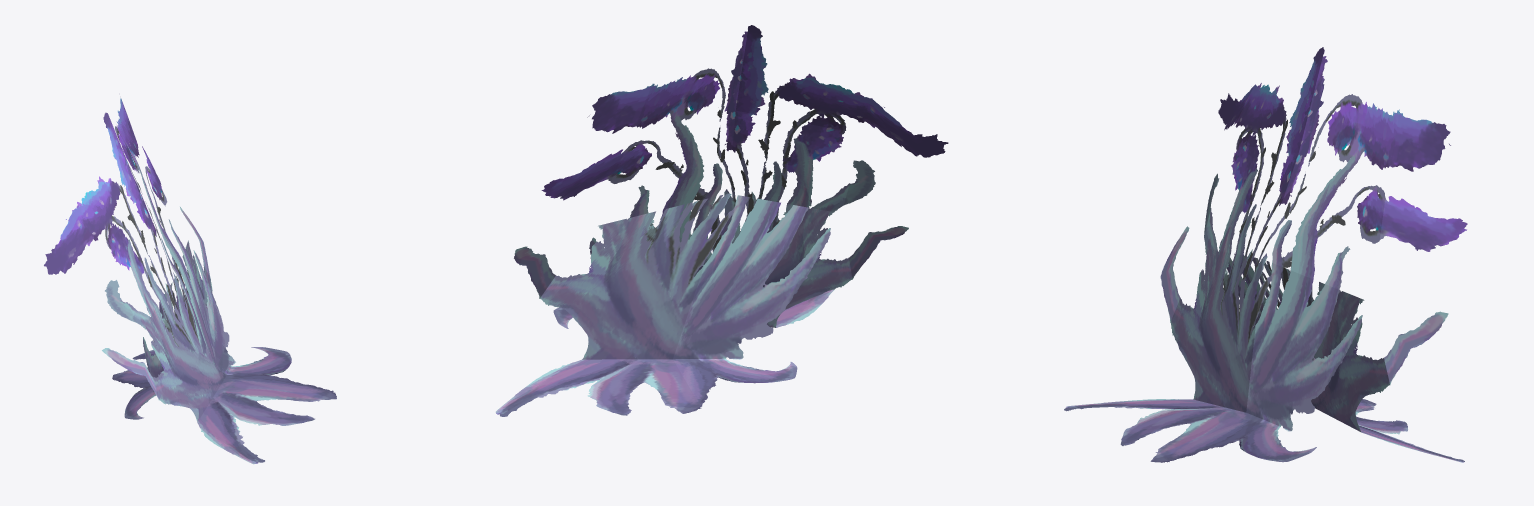
Rendered from grass1.fbx.
3 views of the same model, side by side, from view 1: azimuth 30°, elevation 25°; view 2: azimuth 150°, elevation 25°; view 3: azimuth 270°, elevation 25° (orthographic). The views are drawn at different scales.
Parts seen in each view (by area): view 1: Plane; view 2: Plane; view 3: Plane.
Boxes of the visible parts, <box> form: Plane: <box>44,98,336,464</box>; Plane: <box>495,25,948,416</box>; Plane: <box>1064,47,1467,462</box>.
Size of the model in its own units: 543 by 528 by 573.
